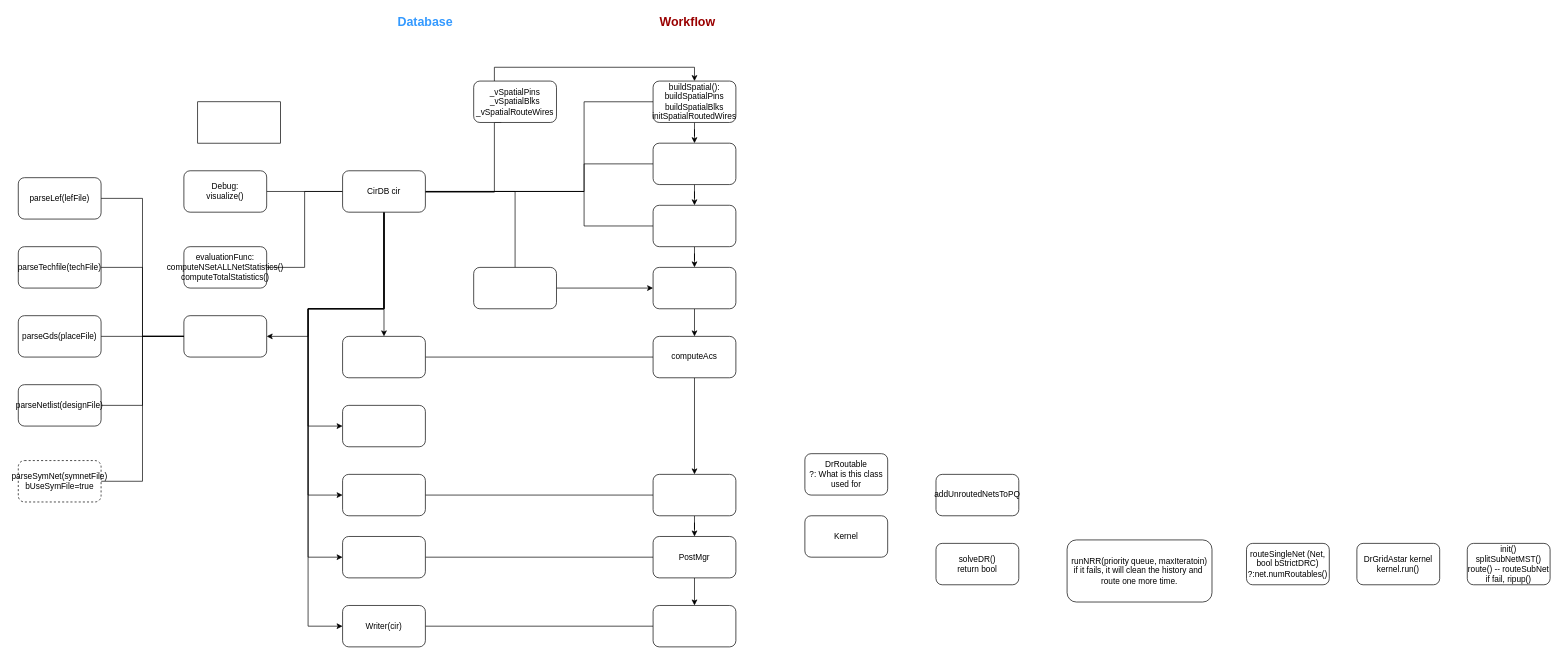
Image size: 1562x659. Some labels were removed from this diagram. The shapes that lost their labels are listed below. From the top down, each one's centre as x and y in pixels, then its label:
At point (694, 163): "markBlks()".
At point (694, 226): "checkfunc: checkNetSymSelfSym".
At point (514, 288): "_vvSpatialNetGuides".
At point (694, 288): "buildSpatialNetGuides()".
At point (225, 336): "Parser(cir)".
At point (383, 357): "AcsMgr(cir)".
At point (383, 426): "DrcMgr(cir)".
At point (383, 495): "DrMgr(cir)".
At point (694, 495): "solve(bUseGrid, bUseSymfile)".
At point (383, 557): "PostMgr(cir)".
At point (694, 626): "writeLayoutGDS".
